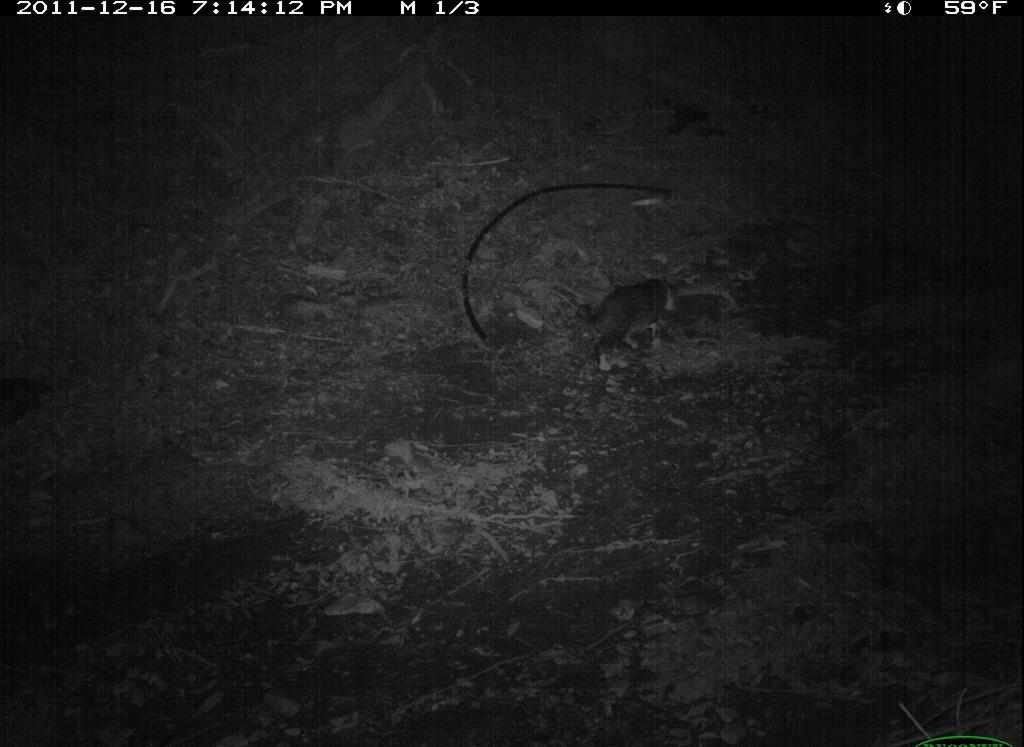cat: (566, 274, 702, 373)
